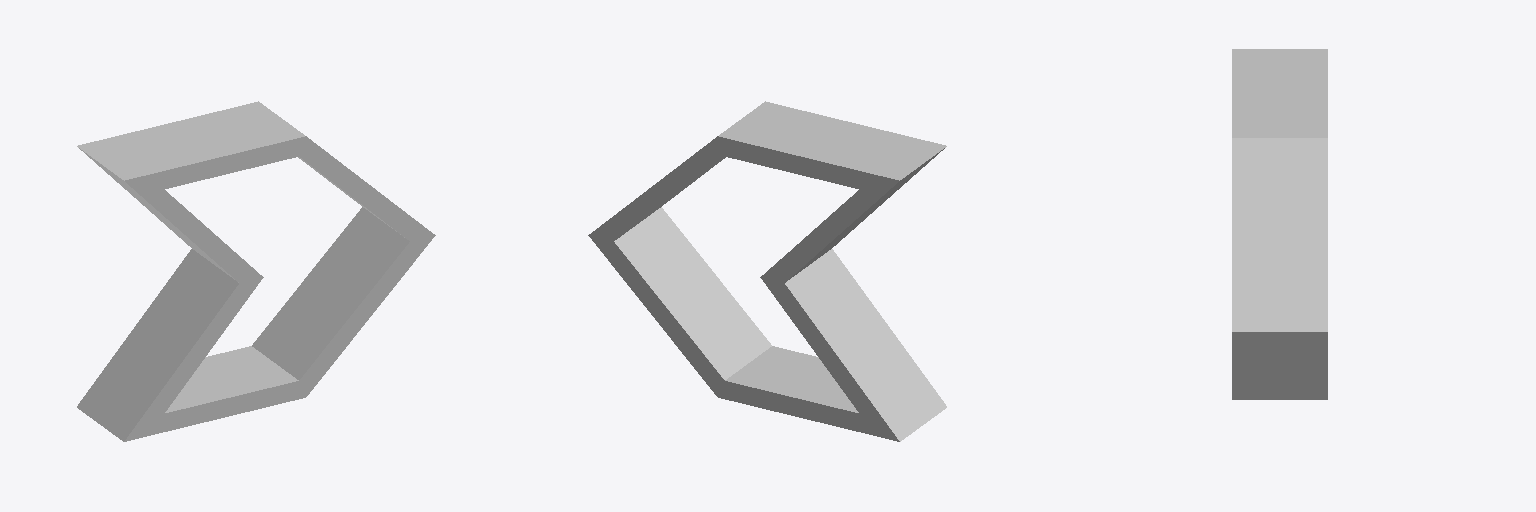
The model's file is Arrow_14.obj.
3 views of the same model, side by side, from view 1: azimuth 30°, elevation 25°; view 2: azimuth 150°, elevation 25°; view 3: azimuth 270°, elevation 25° (orthographic).
Parts seen in each view (by area): view 1: Arrow_14; view 2: Arrow_14; view 3: Arrow_14.
Part boxes in pixels (x1,y1,x2,y2): Arrow_14: (77, 101, 435, 441); Arrow_14: (588, 101, 946, 441); Arrow_14: (1232, 49, 1327, 399).
Bounding box in the file's own units: 3.51 × 2.81 × 0.9272.